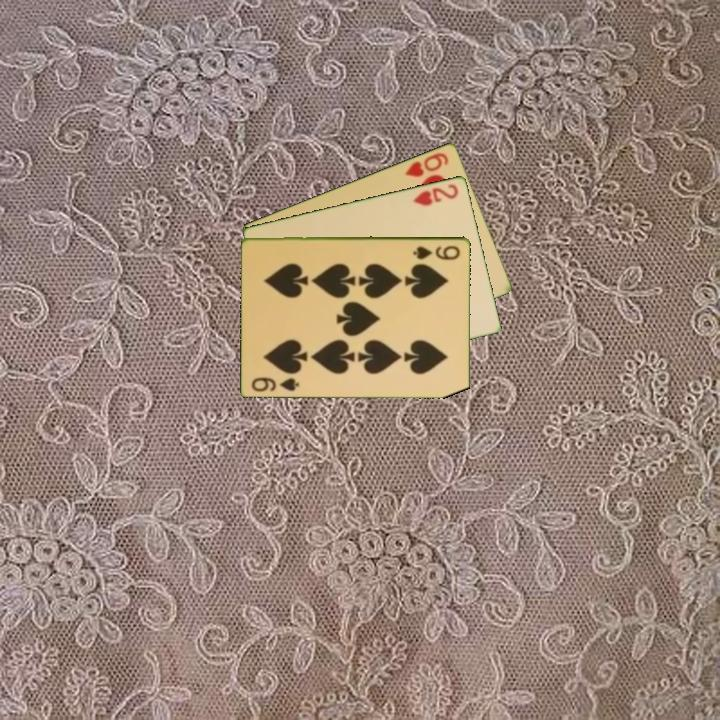2h: (410, 180, 461, 208)
6h: (401, 149, 451, 180)
9s: (248, 374, 302, 394), (410, 242, 463, 262)
